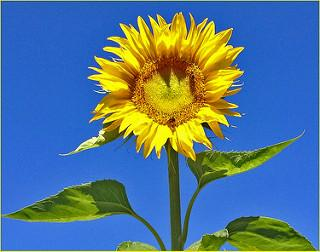sunflower: (88, 11, 245, 158)
